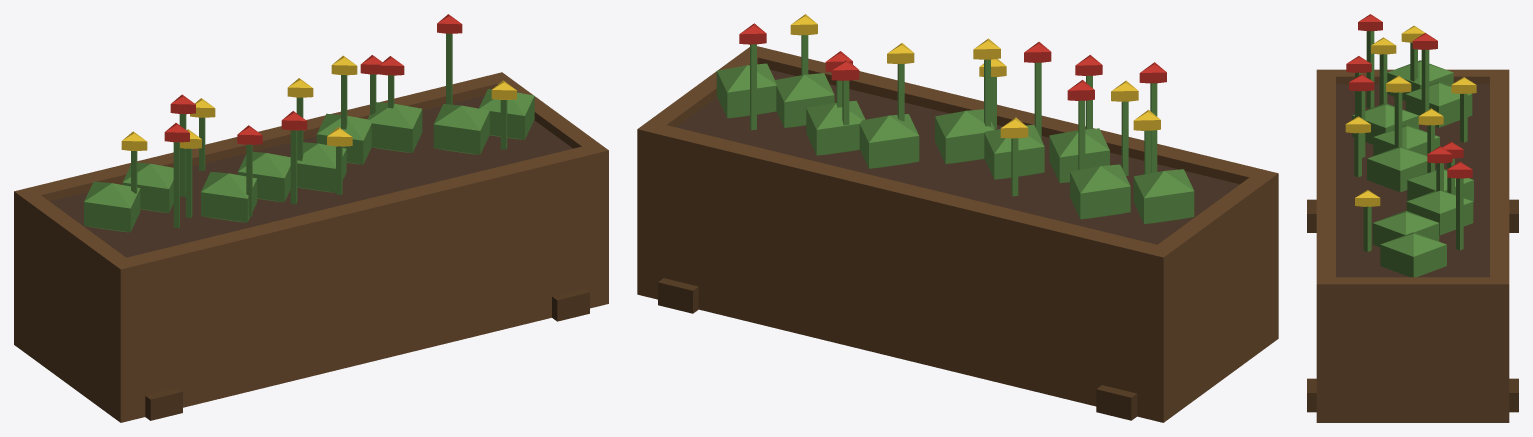
File: planter-box-a.glb
The picture shows the model from 3 angles, left to right: view 1: azimuth 30°, elevation 25°; view 2: azimuth 150°, elevation 25°; view 3: azimuth 270°, elevation 25°; orthographic projection. The views are drawn at different scales.
Visible parts, largest first — view 1: Body_Wood, Body_Plant, Body_Soil, Body_Main, Body_Second, Body_WoodDark; view 2: Body_Wood, Body_Plant, Body_Soil, Body_Second, Body_Main, Body_WoodDark; view 3: Body_Wood, Body_Plant, Body_Soil, Body_Second, Body_Main, Body_WoodDark.
Boxes of the visible parts, <box> form: Body_Wood: <box>14,72,608,422</box>; Body_Plant: <box>84,33,534,232</box>; Body_Soil: <box>50,95,572,257</box>; Body_Main: <box>164,14,462,144</box>; Body_Second: <box>121,55,516,150</box>; Body_WoodDark: <box>145,288,589,420</box>; Body_Wood: <box>637,46,1278,422</box>; Body_Plant: <box>716,35,1194,223</box>; Body_Soil: <box>676,69,1239,244</box>; Body_Second: <box>790,14,1160,138</box>; Body_Main: <box>739,23,1166,100</box>; Body_WoodDark: <box>658,278,1137,420</box>; Body_Wood: <box>1316,69,1509,422</box>; Body_Plant: <box>1352,31,1473,277</box>; Body_Soil: <box>1336,84,1489,277</box>; Body_Second: <box>1345,25,1476,206</box>; Body_Main: <box>1346,14,1472,178</box>; Body_WoodDark: <box>1307,199,1518,412</box>.
Size of the model in its own units: 1.2 by 0.6 by 0.5.
